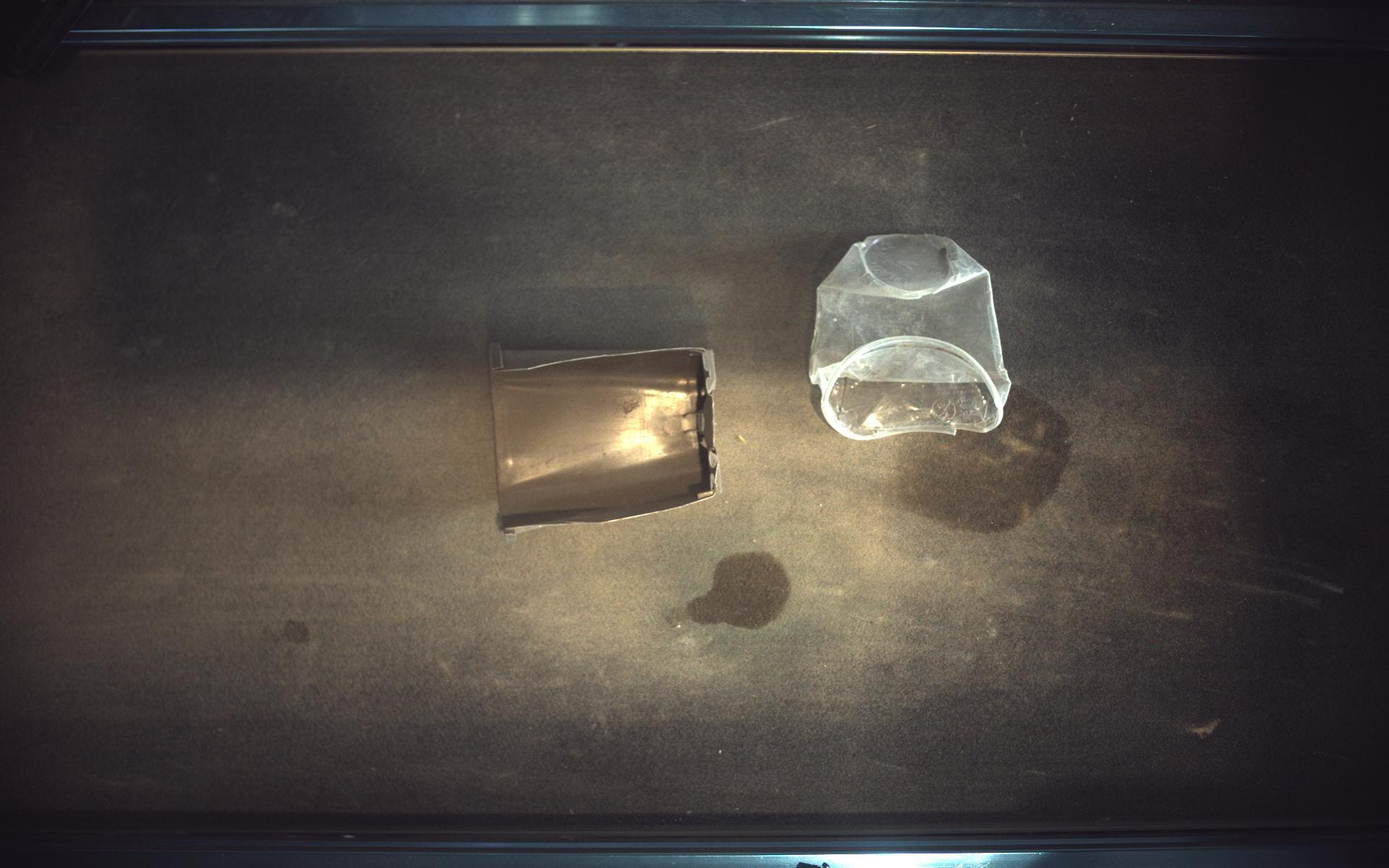general_w: (490, 344, 721, 540), (811, 234, 1013, 440)
